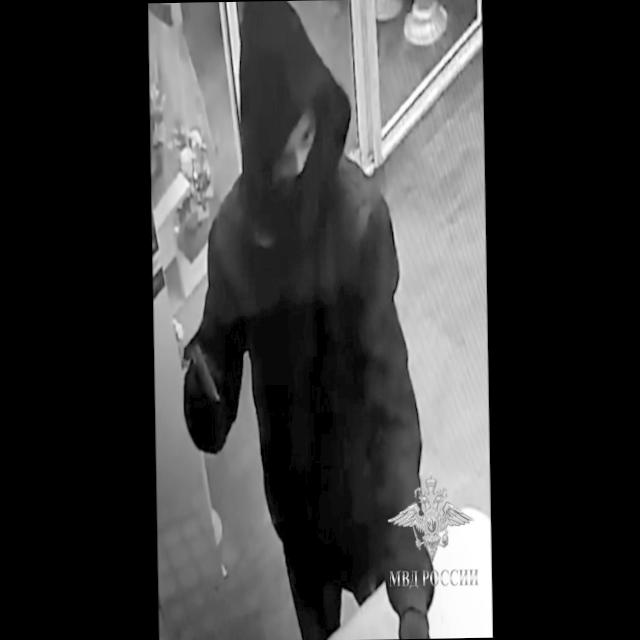gun: (179, 327, 225, 458)
person with a gun: (169, 7, 431, 640)
